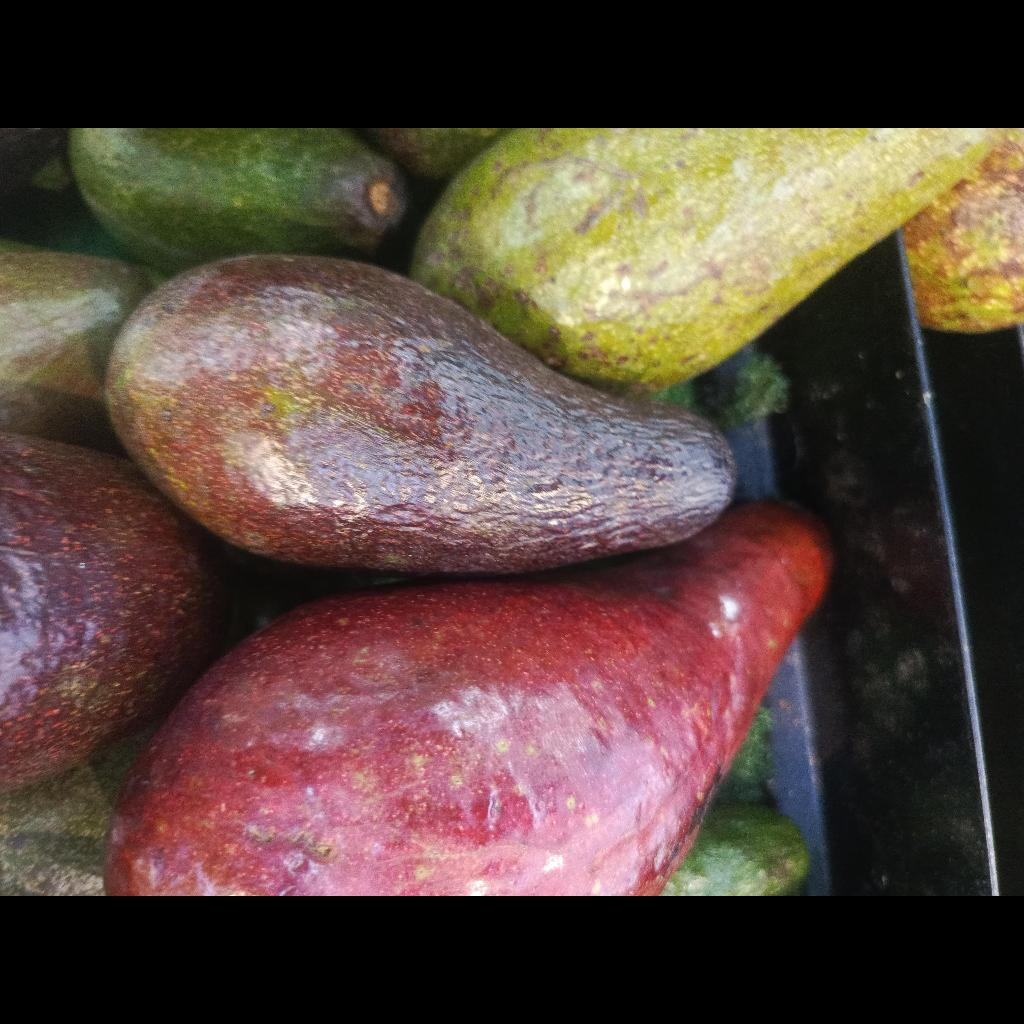anthracnose: (104, 502, 832, 896), (411, 128, 1004, 395)
healthy: (107, 255, 735, 574)
